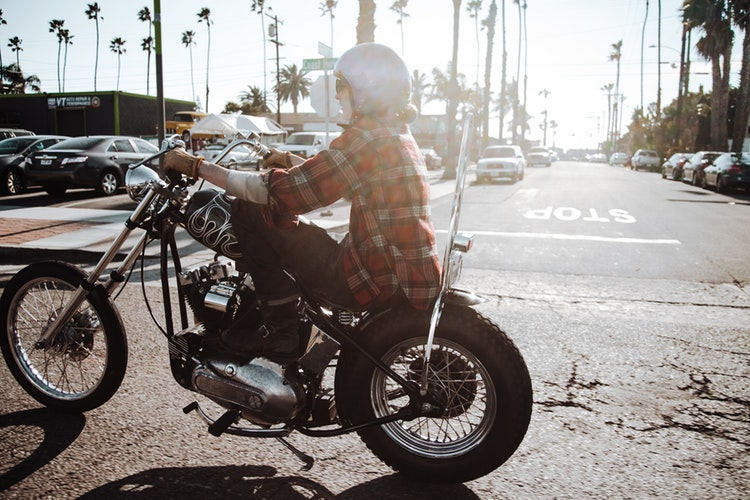helmet: (322, 46, 415, 126)
